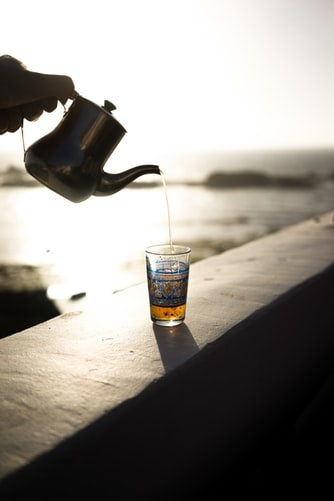whiskey: (143, 245, 193, 329)
